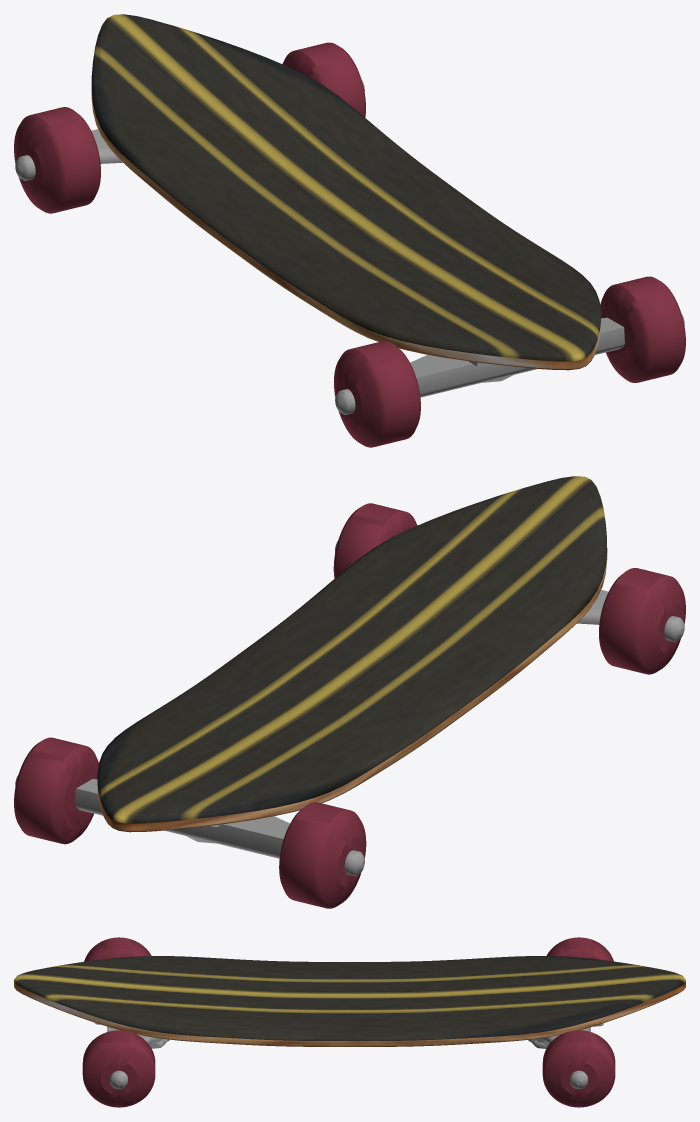
The model's file is NewSkateboard.fbx.
The picture shows the model from 3 angles, top to bottom: view 1: azimuth 30°, elevation 25°; view 2: azimuth 150°, elevation 25°; view 3: azimuth 270°, elevation 25°; orthographic projection. The views are drawn at different scales.
Visible parts, largest first — view 1: Cube; view 2: Cube; view 3: Cube.
Boxes of the visible parts, x1,y1,x2,y2 form: Cube: (14, 14, 685, 447); Cube: (14, 476, 685, 908); Cube: (14, 937, 685, 1107).
Size of the model in its own units: 129 by 38.48 by 303.
